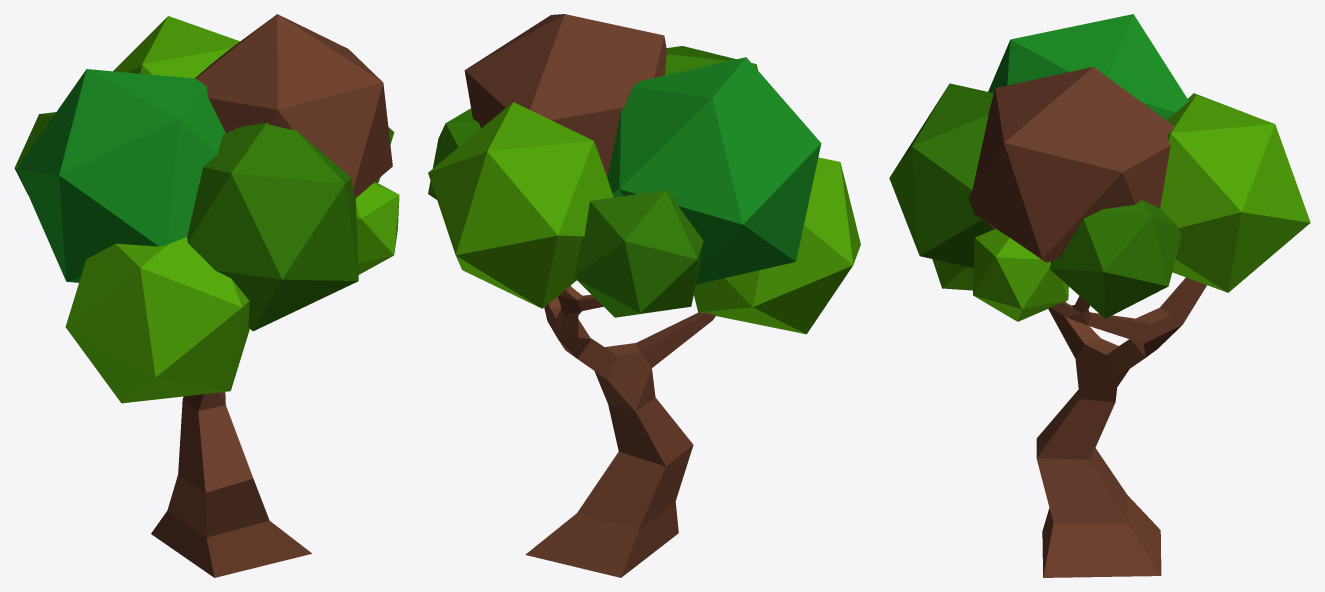
The model's file is Tree.fbx.
3 views of the same model, side by side, from view 1: azimuth 30°, elevation 25°; view 2: azimuth 150°, elevation 25°; view 3: azimuth 270°, elevation 25° (orthographic). The views are drawn at different scales.
Parts seen in each view (by area): view 1: Cube.002; view 2: Cube.002; view 3: Cube.002.
Part boxes in pixels (x1,y1,x2,y2): Cube.002: [14, 14, 399, 577]; Cube.002: [428, 14, 860, 577]; Cube.002: [889, 14, 1310, 577].
Size of the model in its own units: 518 by 692 by 521.
